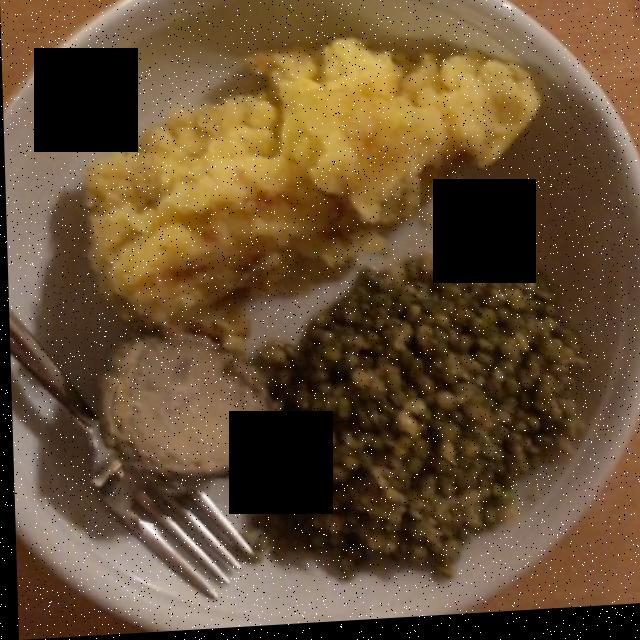artichoke: (98, 327, 272, 485)
lentils: (247, 254, 572, 579)
mashed-potatoes-prepared-with-full-fat-milk-with-butter: (84, 47, 542, 345)
